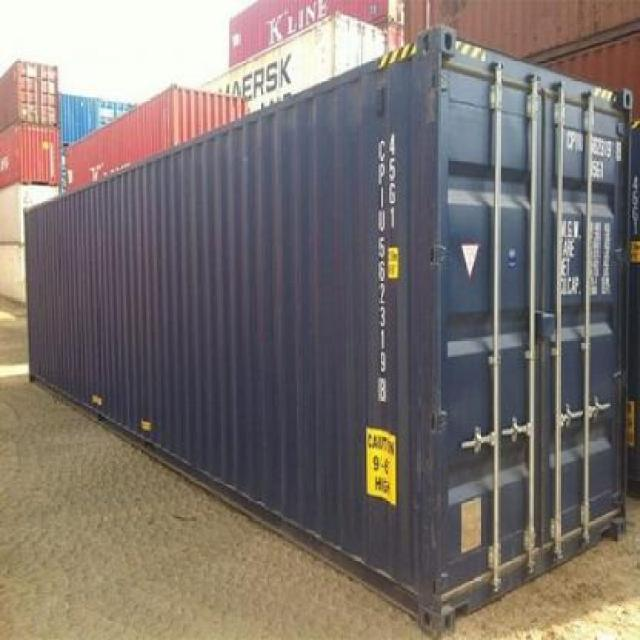ISO: (589, 158, 609, 179)
container_number: (562, 128, 622, 158)
